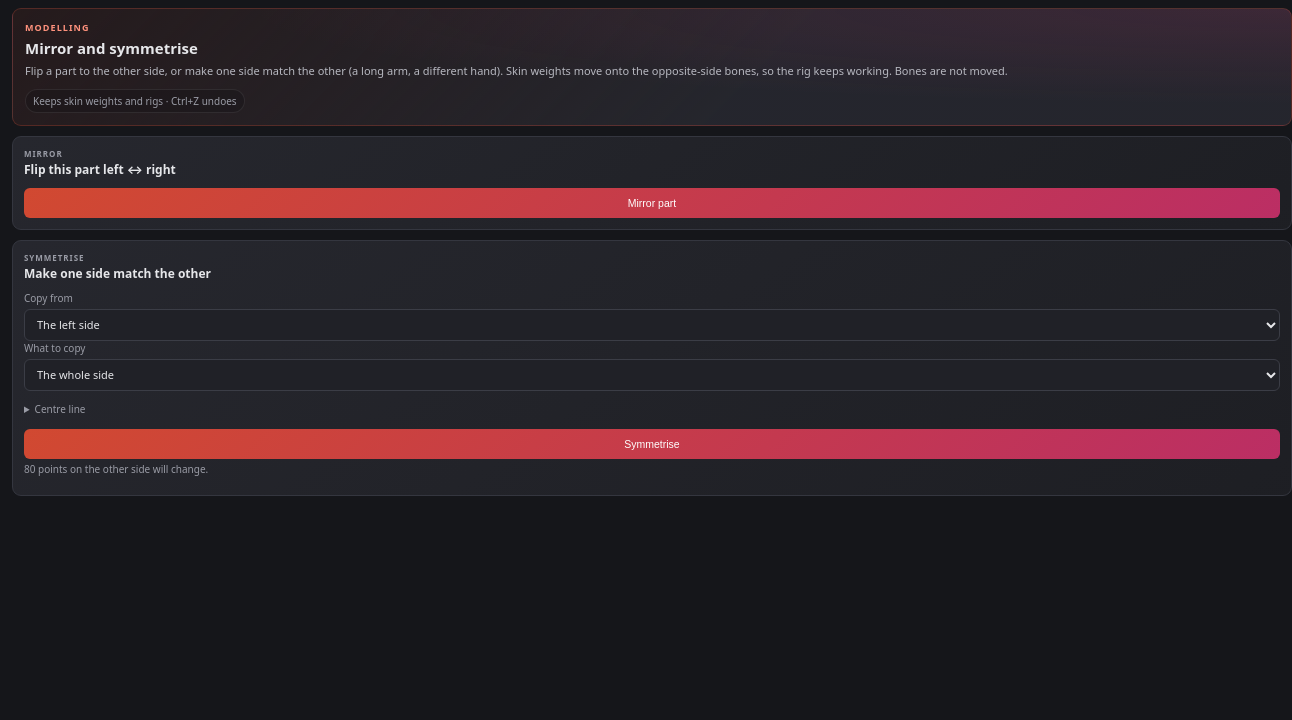
Test case: Mirror & symmetrise panel › shows how many points will change, symmetrises, and mirrors
expect the text "80 points on the other side will change." is shown: met, box [24, 462, 208, 476]
What coordinates should you click on to do the following:
click the button "Symmetrise"
I would click on:
 (652, 444)
Its box is [24, 428, 1280, 458].
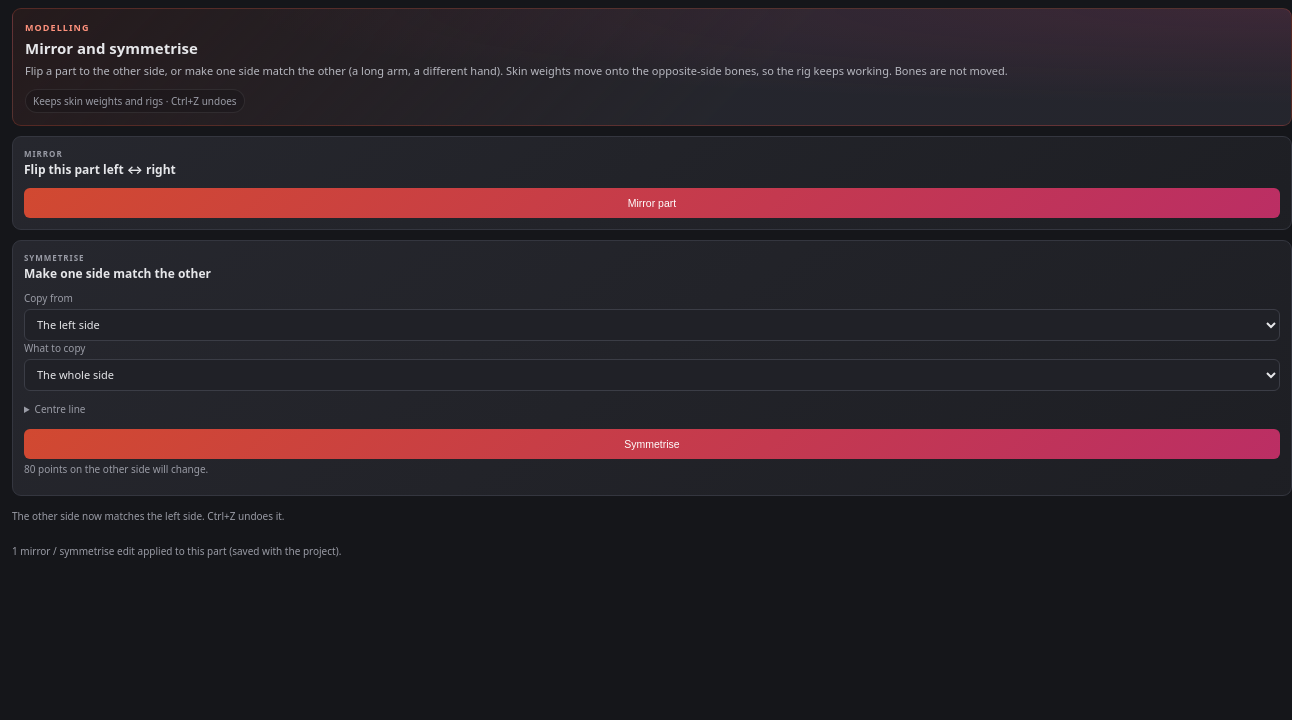
expect the text "The other side now matches the left side. Ctrl+Z undoes it." is shown: met, box [12, 508, 284, 522]
What coordinates should you click on to do the following:
click the button "Mirror part"
I would click on:
 (652, 202)
Its box is [24, 188, 1280, 218].
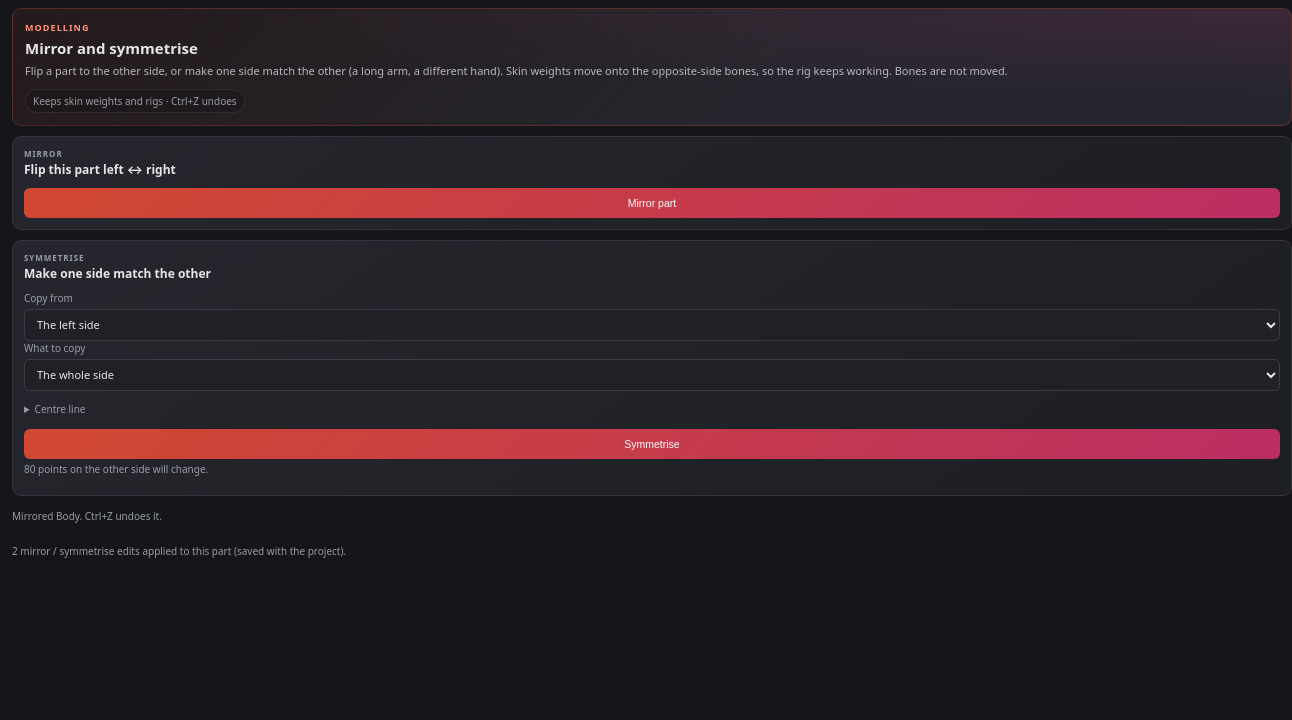
expect the text "Mirrored Body. Ctrl+Z undoes it." is shown: met, box [12, 508, 162, 522]
